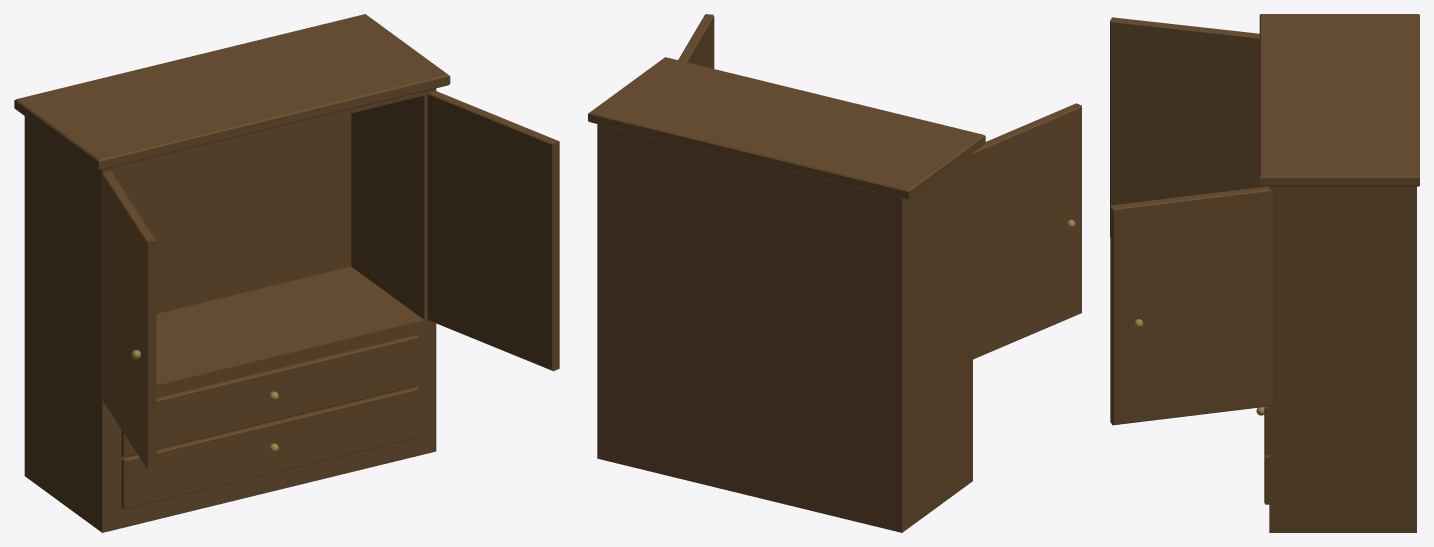
Rendered from DrawerOpenedGeo.fbx.
3 views of the same model, side by side, from view 1: azimuth 30°, elevation 25°; view 2: azimuth 150°, elevation 25°; view 3: azimuth 270°, elevation 25° (orthographic). The views are drawn at different scales.
Parts seen in each view (by area): view 1: DrawerOpenedGeo; view 2: DrawerOpenedGeo; view 3: DrawerOpenedGeo.
Boxes of the visible parts, x1,y1,x2,y2 form: DrawerOpenedGeo: (14, 14, 559, 532); DrawerOpenedGeo: (588, 14, 1081, 532); DrawerOpenedGeo: (1110, 14, 1419, 532).
Bounding box in the file's own units: 470 × 406 × 317.
